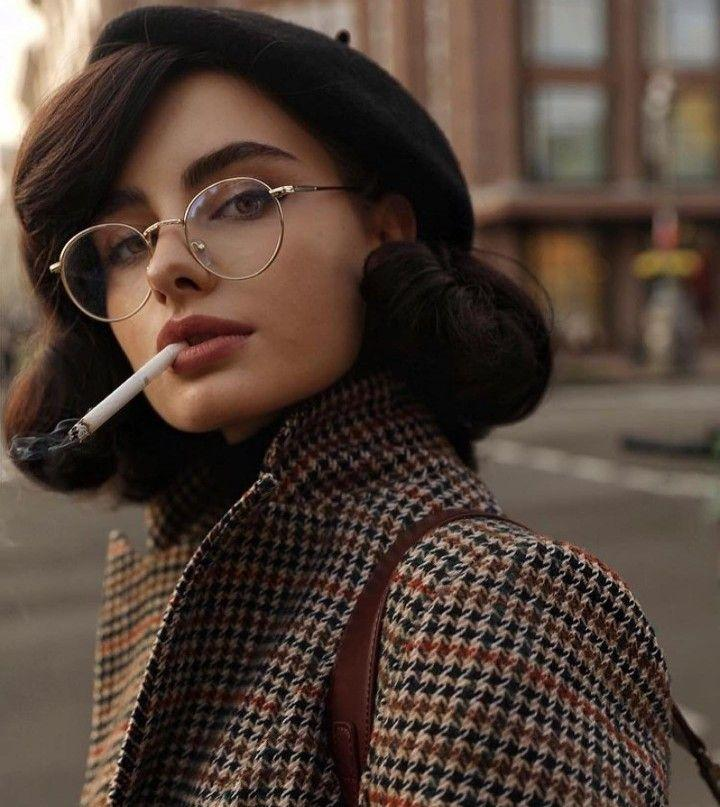cigarette: (69, 340, 188, 443)
